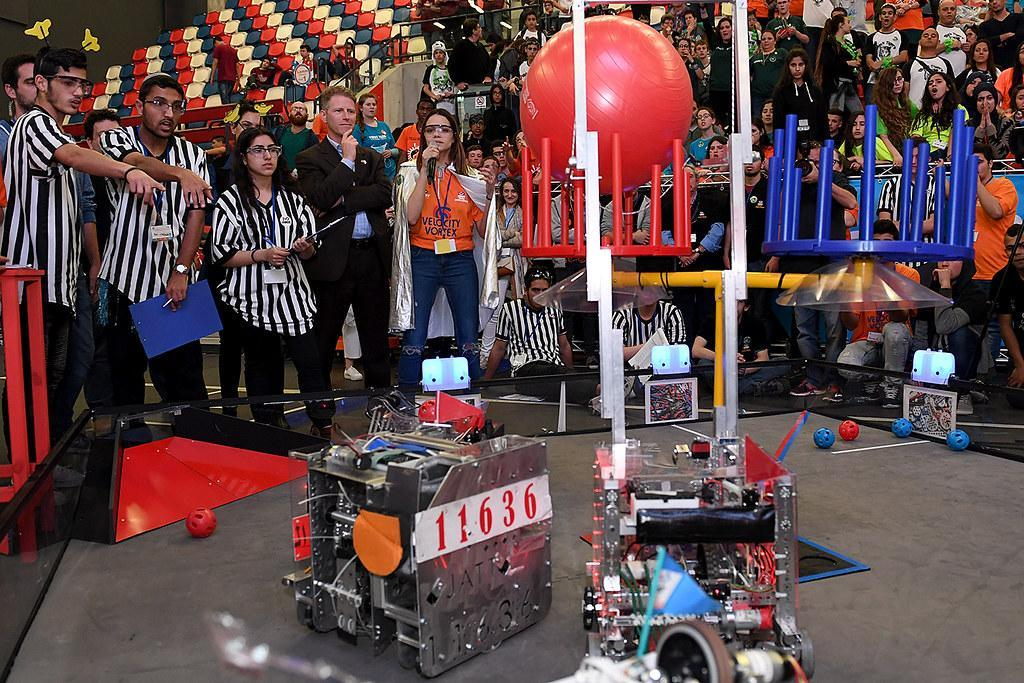robot: (274, 376, 559, 677)
